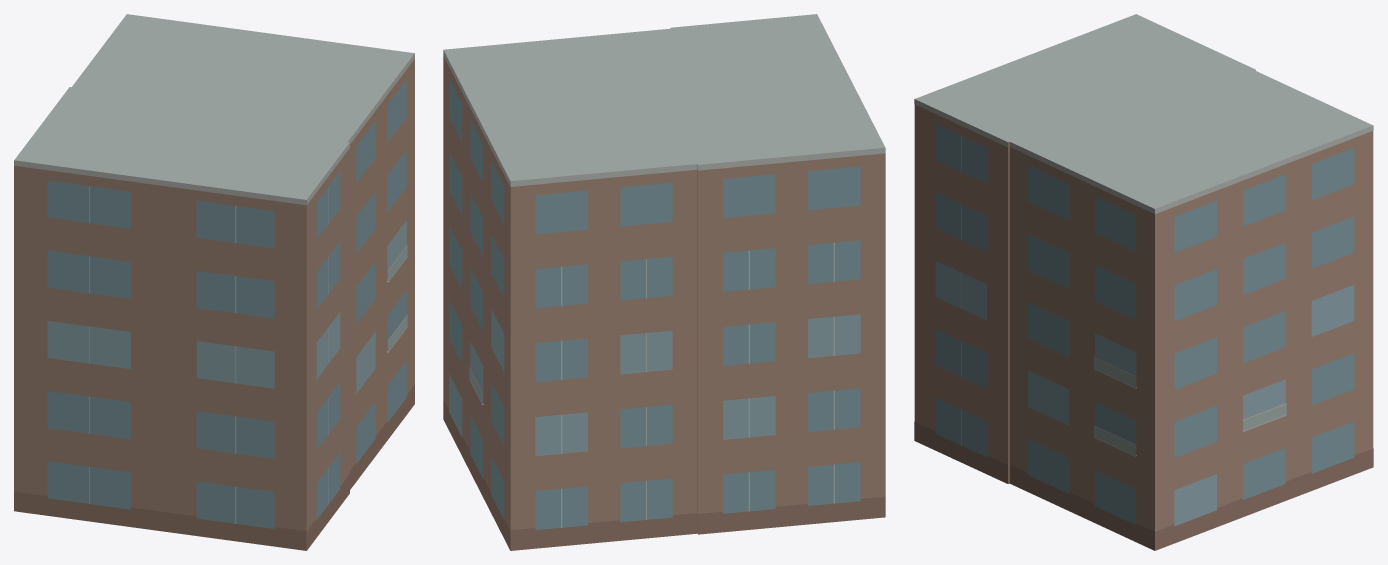
Rendered from survey-upis-32839586.glb.
3 views of the same model, side by side, from view 1: azimuth 30°, elevation 25°; view 2: azimuth 150°, elevation 25°; view 3: azimuth 270°, elevation 25° (orthographic). The views are drawn at different scales.
Parts seen in each view (by area): view 1: survey-upis-32839586.tmp; view 2: survey-upis-32839586.tmp; view 3: survey-upis-32839586.tmp.
Boxes of the visible parts, x1,y1,x2,y2 form: survey-upis-32839586.tmp: (14, 14, 414, 550); survey-upis-32839586.tmp: (443, 14, 885, 550); survey-upis-32839586.tmp: (914, 14, 1373, 550).
Size of the model in its own units: 19.46 by 15.9 by 19.35.
